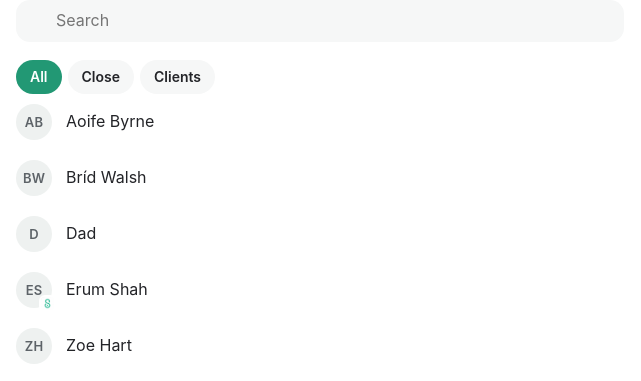
Test: People page › shows Clients once someone is a client
This screenshot has width=641, height=381.
What coordinates should you click on to do the following:
click the button "Clients"
I would click on:
 (178, 77)
Its box is [140,60,215,94].
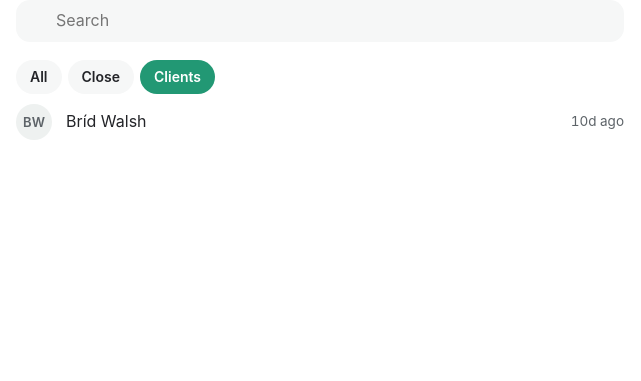
Now the text "10d ago" is shown, box [571,111,624,133]
